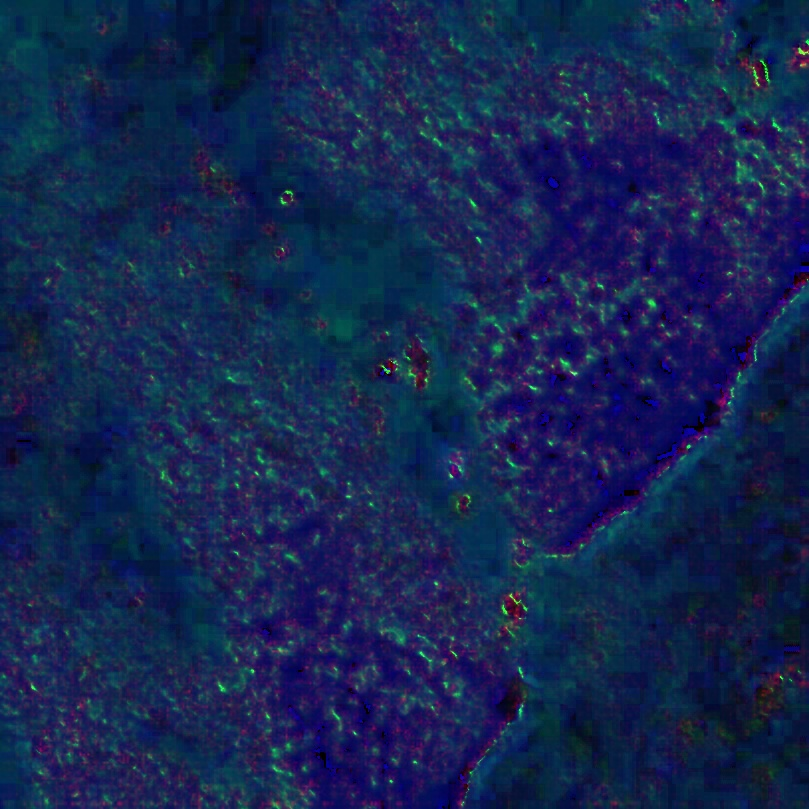rip_current: (160, 129, 631, 693)
